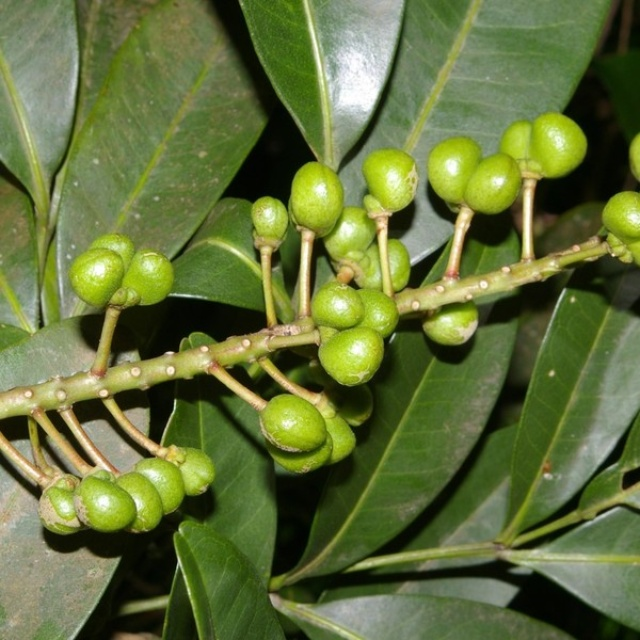obstacle: (52, 35, 575, 620)
